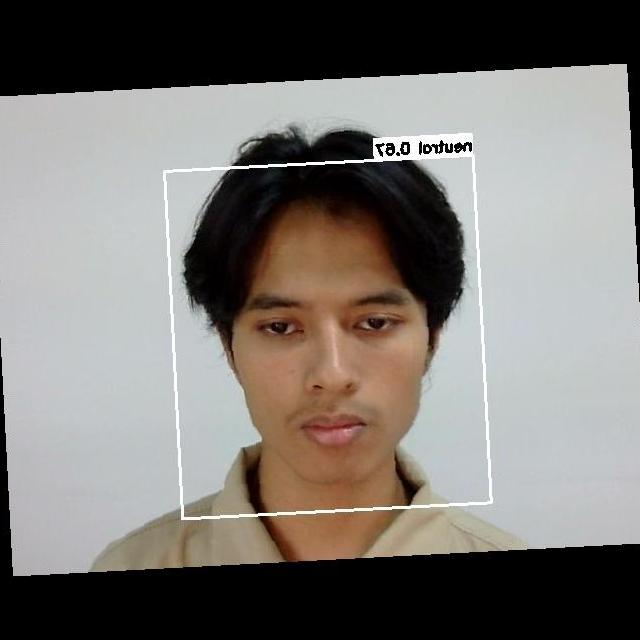Natural: (219, 261, 428, 448)
